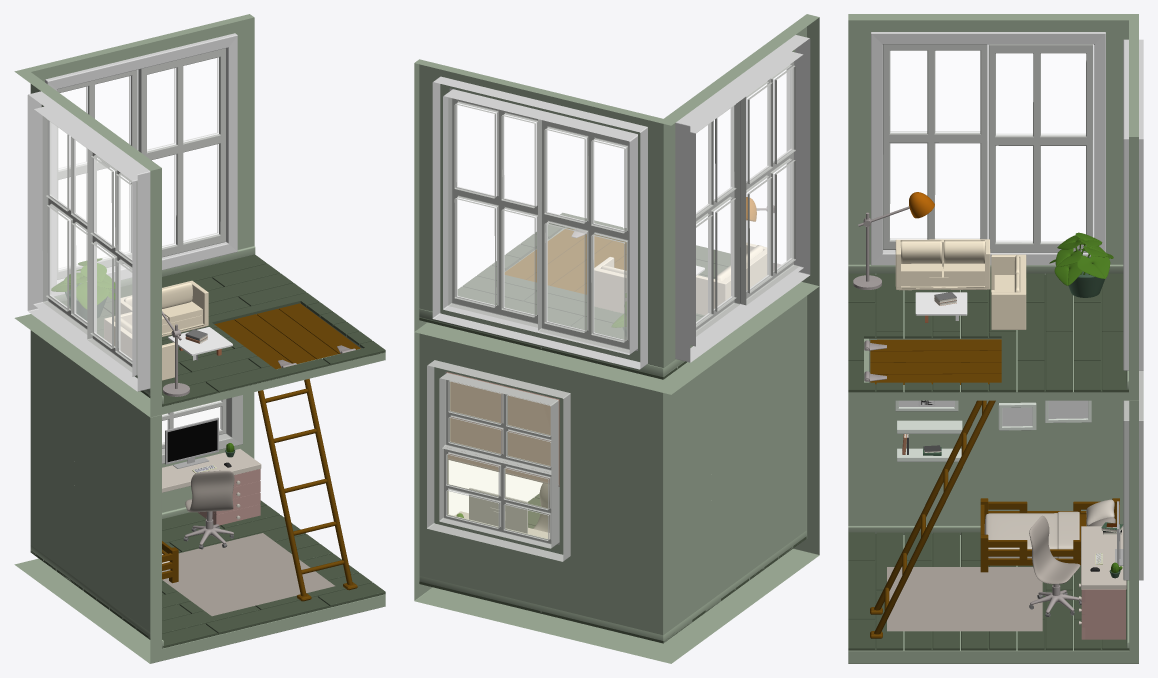
Rendered from room-V2.glb.
3 views of the same model, side by side, from view 1: azimuth 30°, elevation 25°; view 2: azimuth 150°, elevation 25°; view 3: azimuth 270°, elevation 25° (orthographic). The views are drawn at different scales.
Visible parts, largest first — view 1: walls, walls_2, lower window.001, floor.001, window frame.002, floor, lower window.004, lower window.003, lower window.002, walls.001, window frame.001, door (+14 smaller); view 2: walls, walls_2, lower window.002, lower window.001, window frame.002, window frame.001, lower window.004, lower window.003, lower window, window frame, upper window, floor.001 (+8 smaller); view 3: walls, lower window.003, walls_2, floor.001, lower window.004, floor, walls.001, window frame.002, door, Cube.025, Cube.021, window frame.001 (+21 smaller).
Part boxes in pixels (x1,y1,x2,y2): walls: (14,314,385,663); walls_2: (14,14,385,417); lower window.001: (138,48,225,257); floor.001: (61,254,385,406); window frame.002: (27,91,150,391); floor: (30,500,385,648); lower window.004: (87,148,137,375); lower window.003: (42,116,96,334); lower window.002: (57,70,137,279); walls.001: (162,533,334,616); window frame.001: (45,33,237,296); door: (214,303,360,369); walls: (414,283,819,663); walls_2: (414,14,819,394); lower window.002: (538,119,629,353); lower window.001: (448,97,537,327); window frame.002: (675,35,810,362); window frame.001: (432,76,647,369); lower window.004: (740,61,799,305); lower window.003: (696,101,740,336); lower window: (441,447,551,546); window frame: (427,360,570,561); upper window: (443,379,551,472); floor.001: (419,213,730,379); walls: (848,351,1138,663); lower window.003: (988,44,1093,252); walls_2: (848,14,1138,400); floor.001: (848,273,1128,392); lower window.004: (883,44,987,249); floor: (848,532,1129,650); walls.001: (887,567,1042,631); window frame.002: (871,32,1105,265); door: (870,339,1001,384); Cube.025: (895,239,990,290); Cube.021: (870,400,995,638); window frame.001: (1123,39,1143,370).
Size of the model in its own units: 4.03 by 8 by 4.06.
36 materials, 1 textured.
